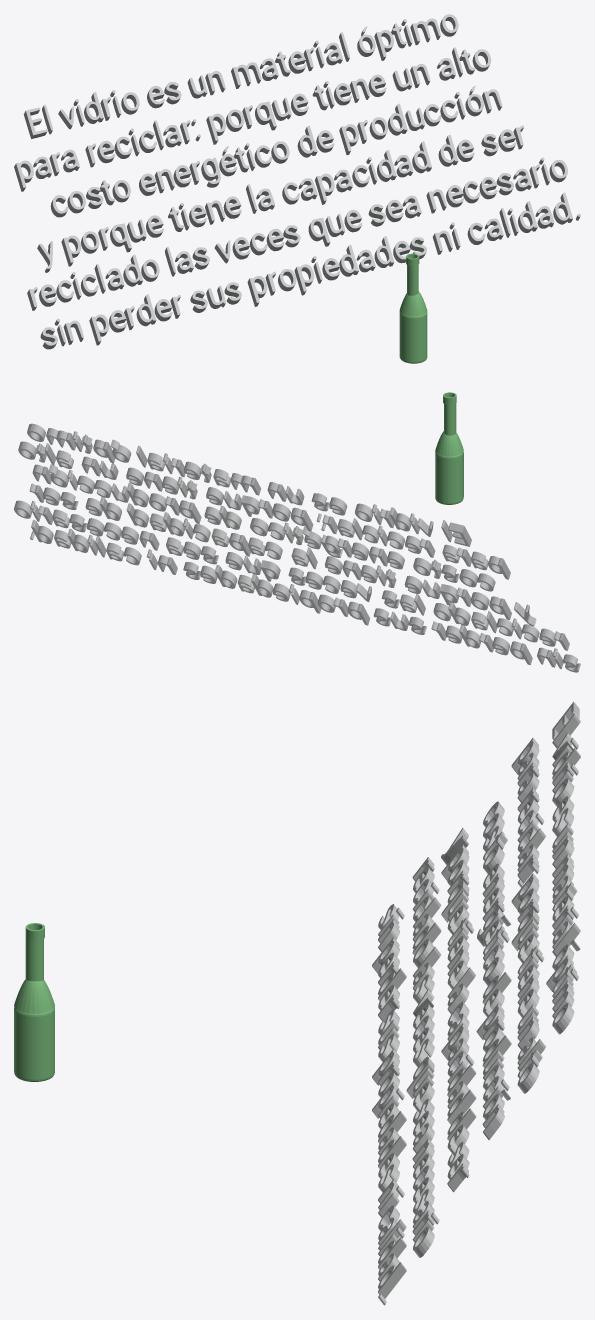
File: asset.glb
3 renders of one model, top to bottom at view 1: azimuth 30°, elevation 25°; view 2: azimuth 150°, elevation 25°; view 3: azimuth 270°, elevation 25°, orthographic. The views are drawn at different scales.
Visible parts, largest first — view 1: Mesh_Mesh_head_geo.001_lambert2SG.001; view 2: Mesh_Mesh_head_geo.001_lambert2SG.001; view 3: Mesh_Mesh_head_geo.001_lambert2SG.001.
Boxes of the visible parts, x1,y1,x2,y2 form: Mesh_Mesh_head_geo.001_lambert2SG.001: [14, 14, 580, 363]; Mesh_Mesh_head_geo.001_lambert2SG.001: [14, 392, 580, 672]; Mesh_Mesh_head_geo.001_lambert2SG.001: [14, 701, 580, 1305].
Bounding box in the file's own units: 739 × 247 × 469.
